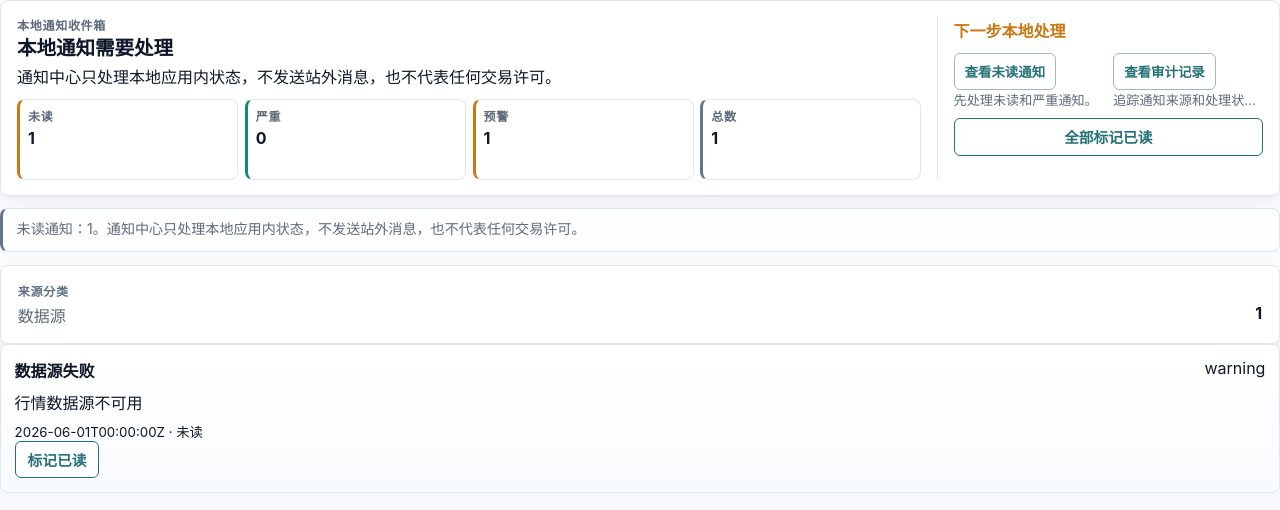
it: NotificationPage › shows unread notifications and supports marking read
expect the text "未读通知：1" is shown: met, box [17,220,93,238]
expect the text "数据源失败" is shown: met, box [15,358,95,382]
Click the button "标记已读".
click(57, 460)  # box [15,441,100,478]
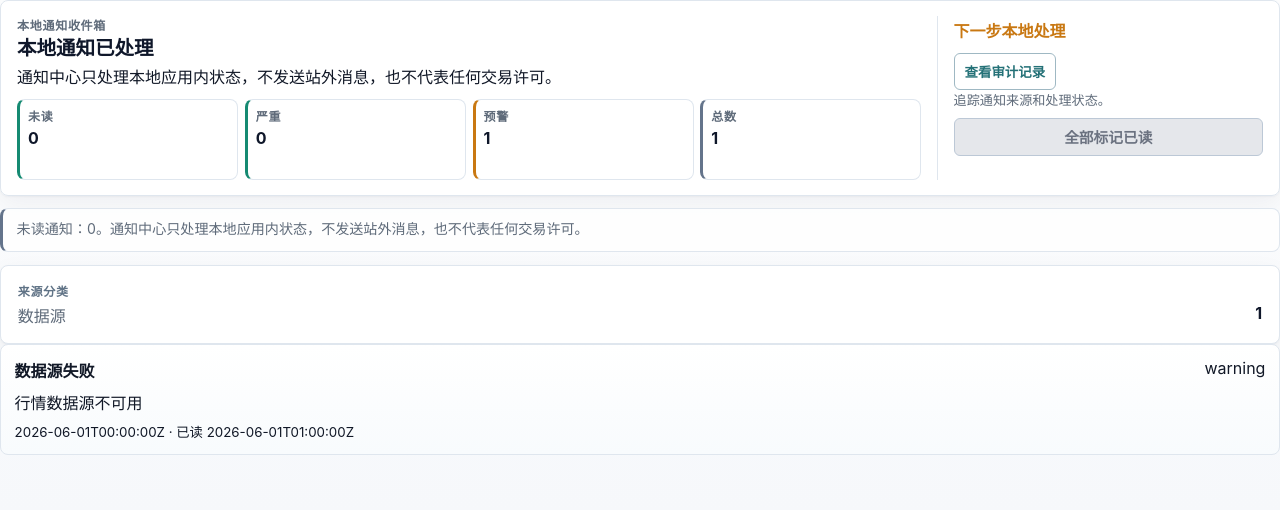
expect the text "未读通知：0" is shown: met, box [17,220,96,238]
